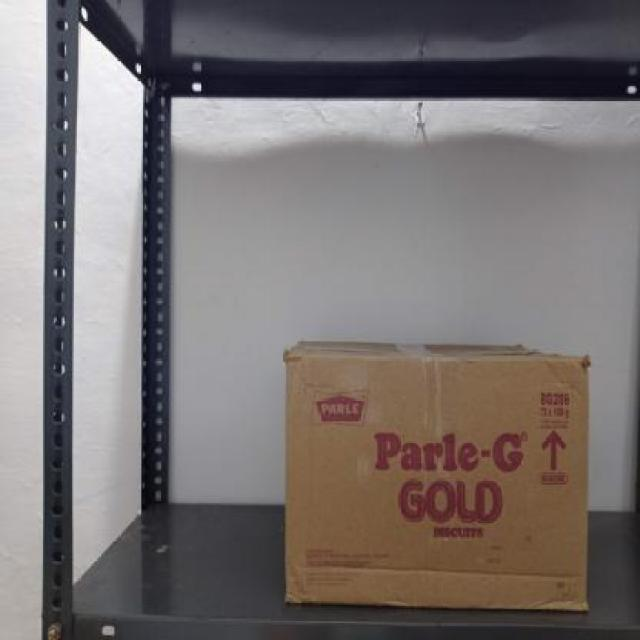box: (282, 350, 588, 616)
